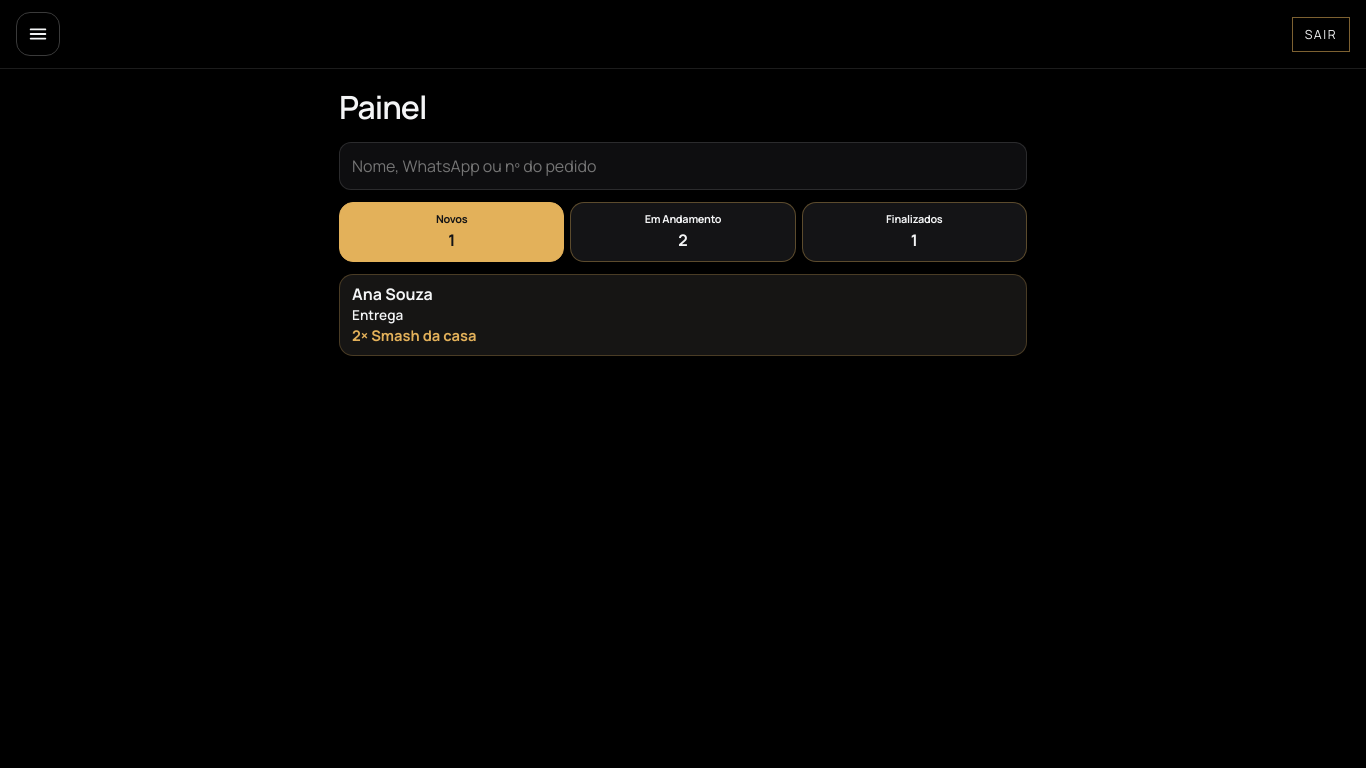
Test: admin board › opens a popup with everything the customer entered
expect the heading "Painel" is shown: met, box left=339, top=85, right=426, bottom=129
Click the button "Ana Souza Entrega 2× Smash da casa" at (392, 294), box left=339, top=274, right=1027, bottom=356
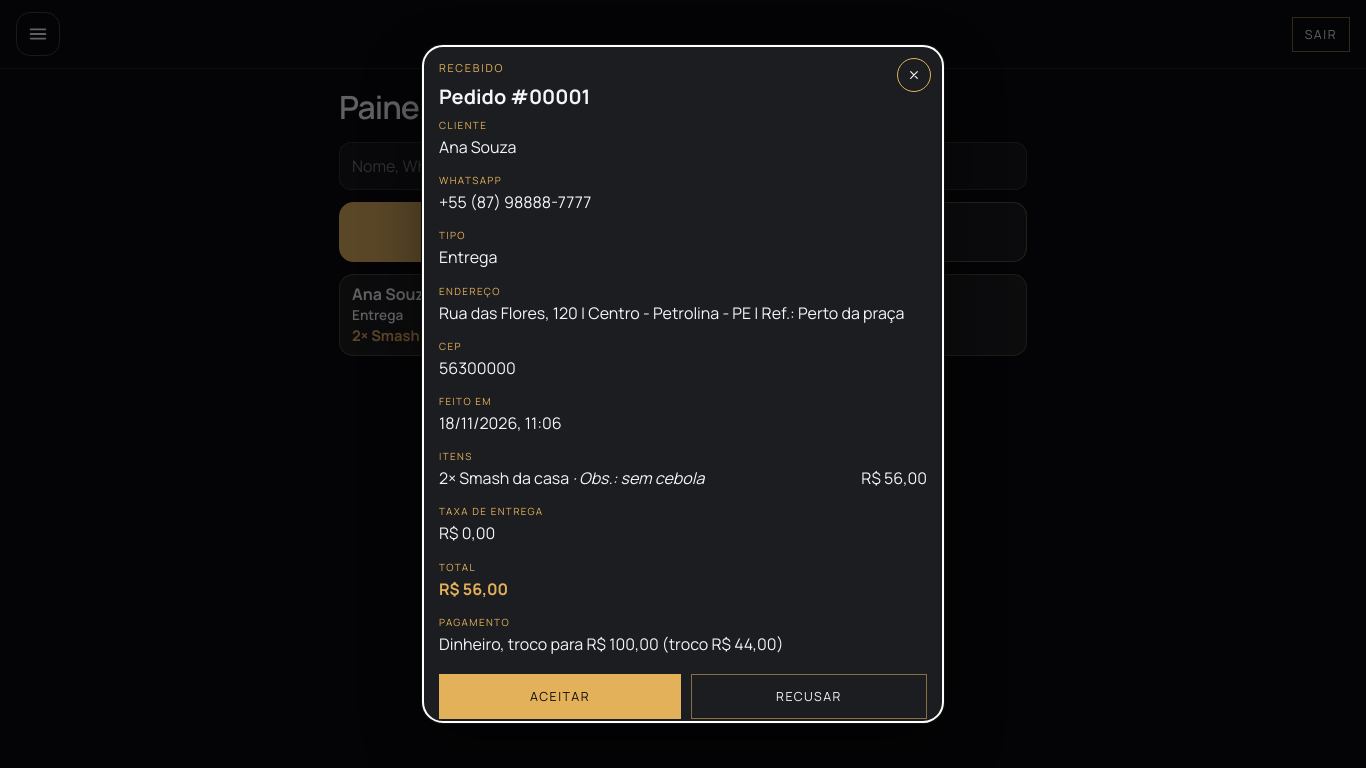
expect the dialog "Pedido #00001" shows "Recebido": met, box left=439, top=60, right=504, bottom=75
expect the dialog "Pedido #00001" is shown: met, box left=423, top=46, right=943, bottom=722
expect the dialog "Pedido #00001" shows "Ana Souza": met, box left=439, top=136, right=516, bottom=158
